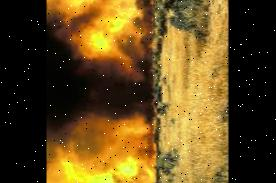fire: (46, 128, 159, 183), (48, 0, 153, 58)
